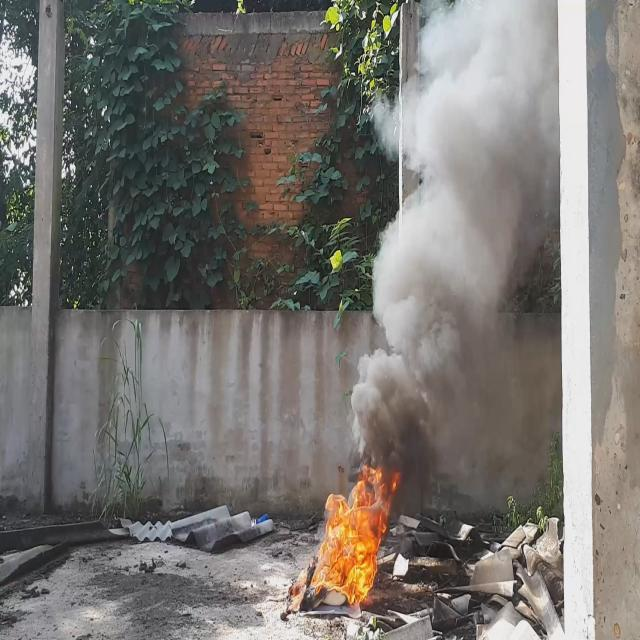Fire: (312, 466, 400, 602)
Smoke: (350, 0, 558, 471)
